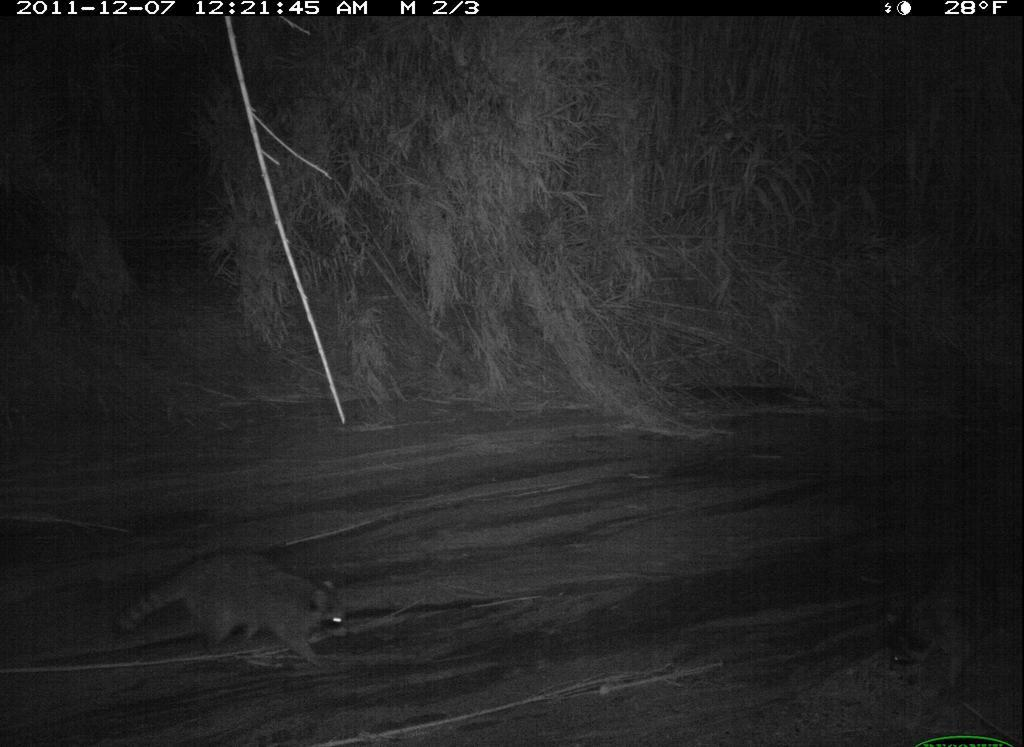raccoon: (94, 534, 387, 696)
